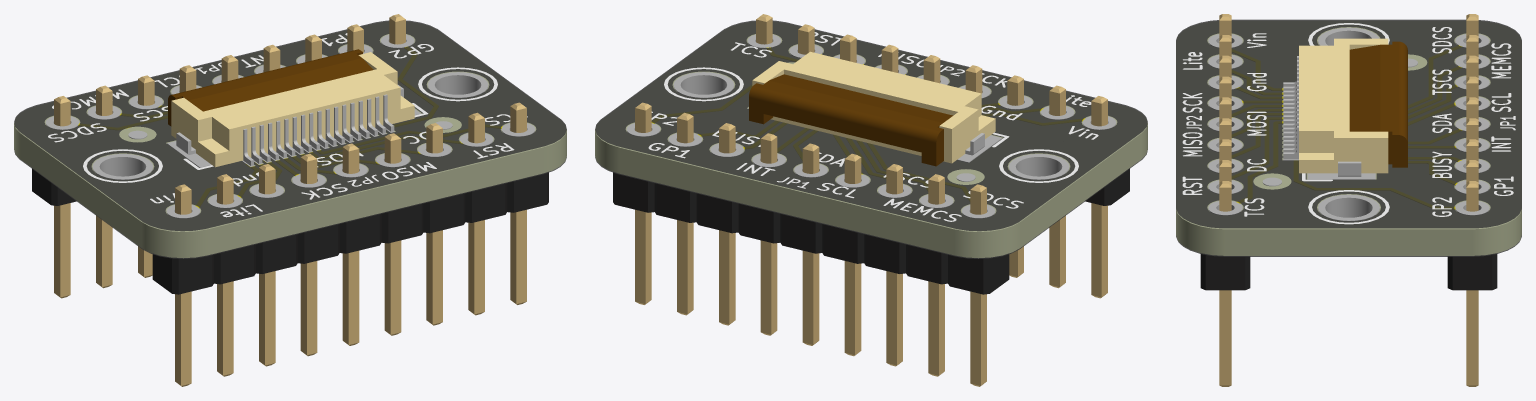
The picture shows the model from 3 angles, left to right: view 1: azimuth 30°, elevation 25°; view 2: azimuth 150°, elevation 25°; view 3: azimuth 270°, elevation 25°; orthographic projection. The views are drawn at different scales.
Parts seen in each view (by area): view 1: =>0:1:1:17, =>0:1:1:5 (×2), =>0:1:1:15, body, =>0:1:1:12, lock, pins, =>0:1:1:13, =>0:1:1:11, =>0:1:1:16; view 2: =>0:1:1:17, =>0:1:1:5 (×2), =>0:1:1:15, lock, body, =>0:1:1:12, =>0:1:1:13, =>0:1:1:11, =>0:1:1:16; view 3: =>0:1:1:17, =>0:1:1:15, =>0:1:1:5 (×2), body, =>0:1:1:12, lock, =>0:1:1:13, =>0:1:1:11, pins, =>0:1:1:16.
Part boxes in pixels (x1,y1,x2,y2): =>0:1:1:17: [14, 22, 566, 258]; =>0:1:1:5 (×2): [32, 14, 548, 386]; =>0:1:1:15: [14, 20, 566, 231]; body: [171, 52, 414, 167]; =>0:1:1:12: [45, 34, 535, 218]; lock: [168, 49, 373, 126]; pins: [176, 84, 403, 165]; =>0:1:1:13: [48, 33, 527, 217]; =>0:1:1:11: [78, 46, 502, 208]; =>0:1:1:16: [14, 149, 566, 258]; =>0:1:1:17: [595, 22, 1147, 258]; =>0:1:1:5 (×2): [613, 14, 1129, 386]; =>0:1:1:15: [595, 20, 1147, 231]; lock: [749, 74, 952, 166]; body: [752, 51, 995, 163]; =>0:1:1:12: [626, 34, 1116, 218]; =>0:1:1:13: [648, 32, 1098, 221]; =>0:1:1:11: [651, 47, 1085, 200]; =>0:1:1:16: [595, 149, 1147, 258]; =>0:1:1:17: [1176, 21, 1521, 255]; =>0:1:1:15: [1176, 19, 1521, 228]; =>0:1:1:5 (×2): [1200, 14, 1497, 386]; body: [1299, 38, 1388, 173]; =>0:1:1:12: [1208, 27, 1489, 220]; lock: [1349, 41, 1407, 167]; =>0:1:1:13: [1182, 23, 1515, 224]; =>0:1:1:11: [1231, 45, 1461, 209]; pins: [1283, 56, 1361, 176]; =>0:1:1:16: [1176, 235, 1521, 256].
Size of the model in its own units: 0.0254 by 0.0121 by 0.0178.
